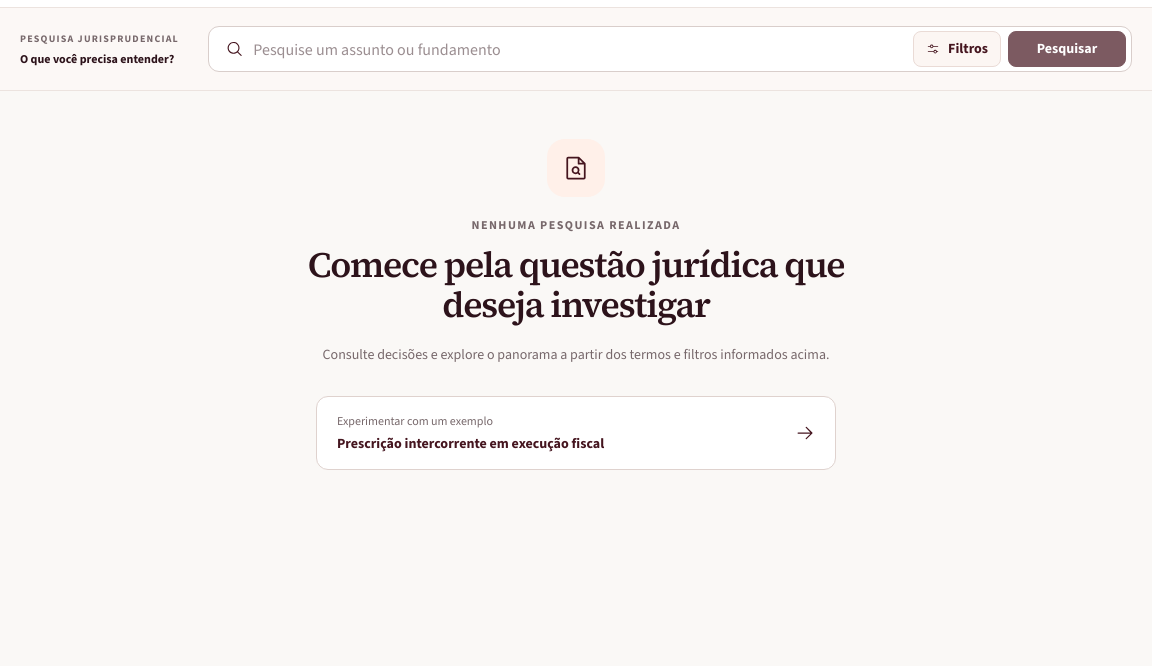
Test: shows an empty state for a successful series without decisions
The width and height of the screenshot is (1152, 666).
Type "prescrição intercorrente em execução fiscal" into the search field named "Pesquisar decisões". click: (578, 49)
box: [253,31,903,67]
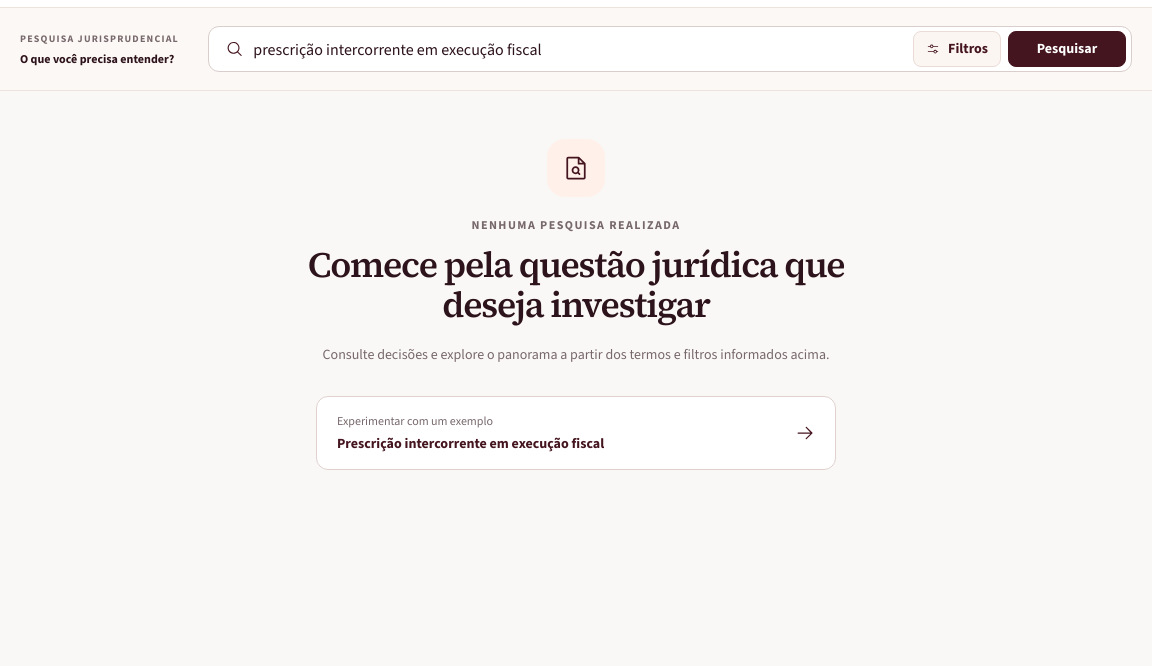
Click the button "Pesquisar". click: (1067, 49)
box: [1008,31,1126,67]
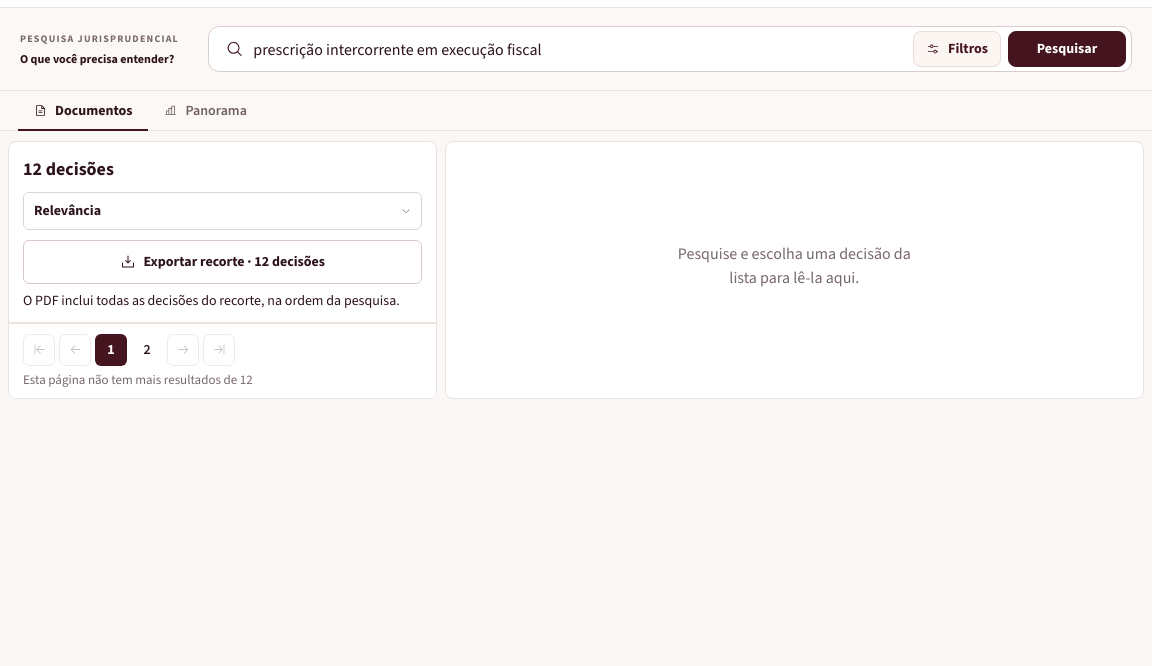
Click the tab "Panorama". click: (206, 111)
box: [148,91,263,130]
(page scrolled)
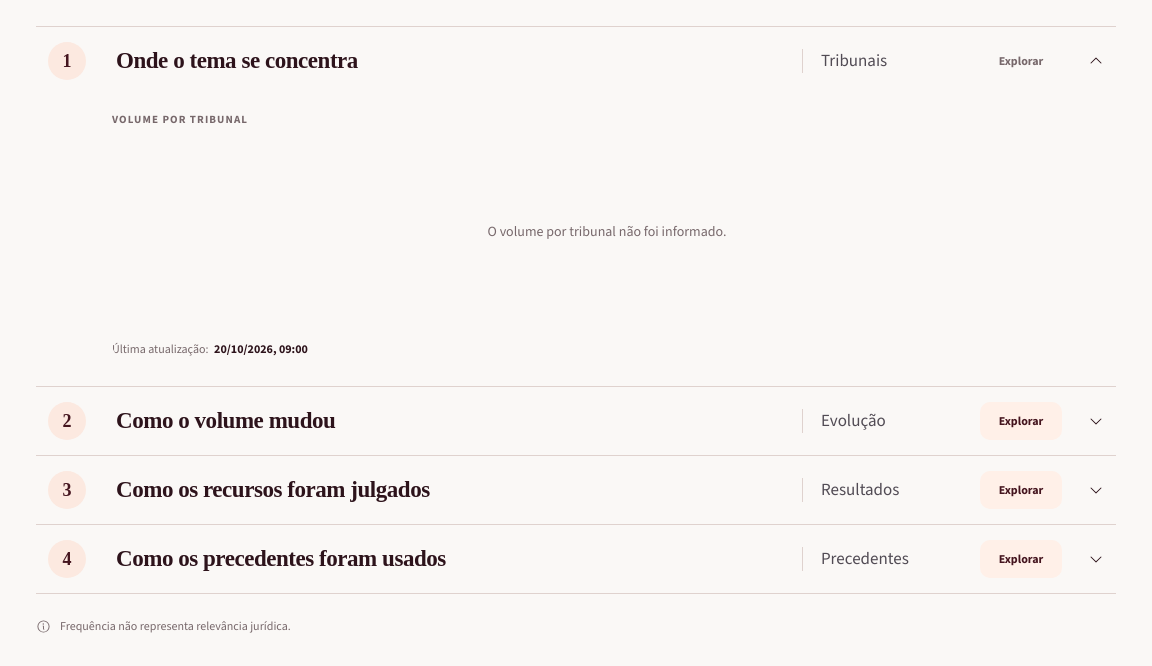
Click the button "2 Como o volume mudou Evolução Explorar". click: (67, 421)
box: [36,387,1116,455]
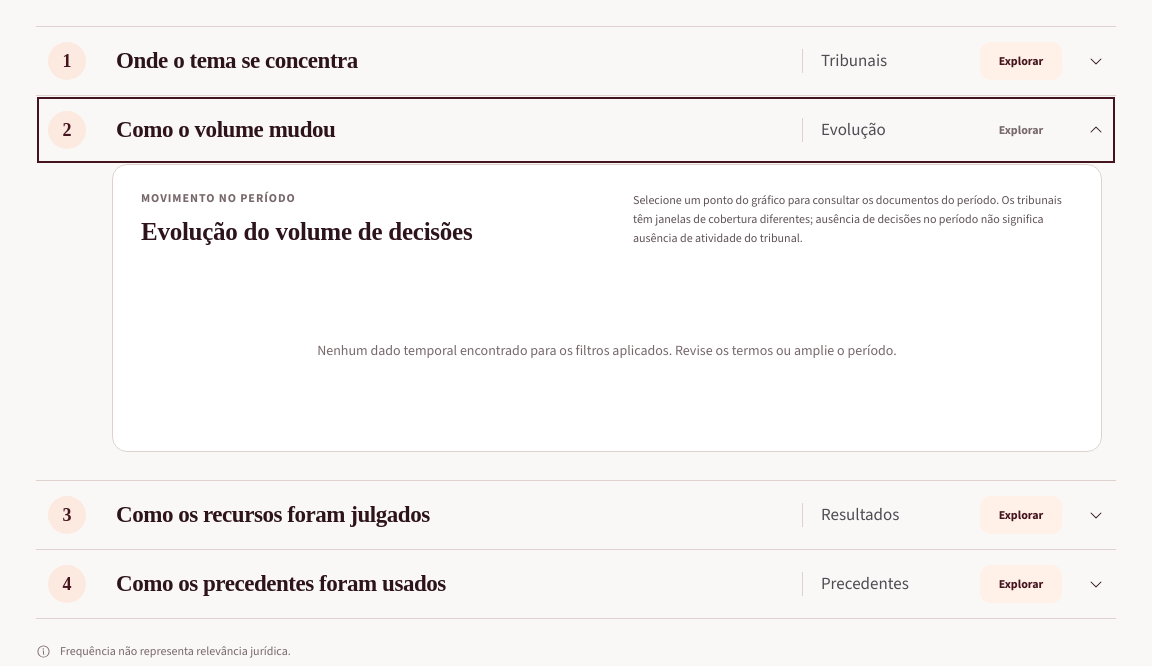
Expected: the text "Nenhum dado temporal encontrado" is shown, [317,341,897,360]
